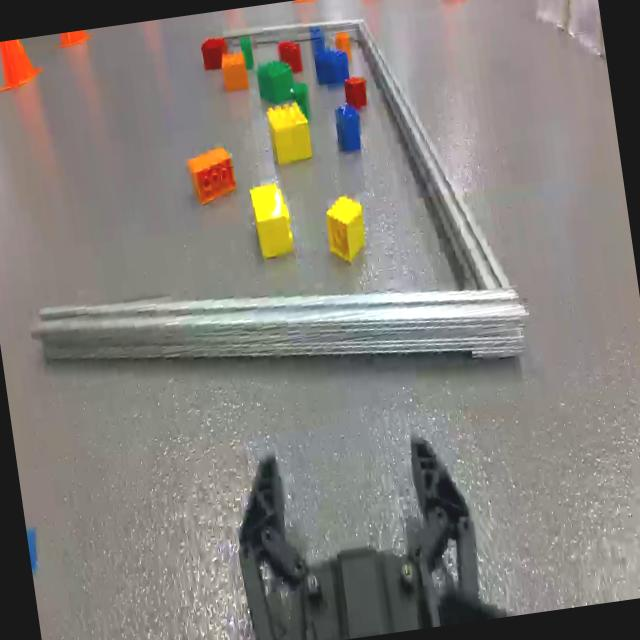block: (248, 182, 298, 260), (324, 192, 371, 268), (264, 102, 314, 170)
blue: (312, 44, 351, 88), (334, 102, 364, 156), (309, 26, 327, 57)
cone: (0, 36, 42, 90), (60, 29, 94, 53), (293, 0, 319, 3)
green: (255, 57, 298, 105), (290, 81, 310, 121), (240, 34, 256, 68)
metal barrier: (0, 0, 537, 433)
orange: (187, 146, 238, 204), (220, 50, 250, 90), (334, 32, 352, 64)
red goal: (200, 34, 230, 70), (343, 73, 369, 111), (278, 38, 304, 76)
storage cube: (558, 0, 606, 63), (530, 0, 580, 33)
